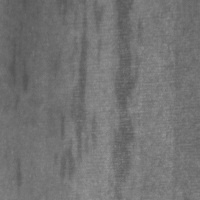inclusion: (107, 3, 146, 195), (57, 2, 98, 173), (54, 112, 75, 184), (6, 35, 29, 99), (9, 157, 28, 193)
